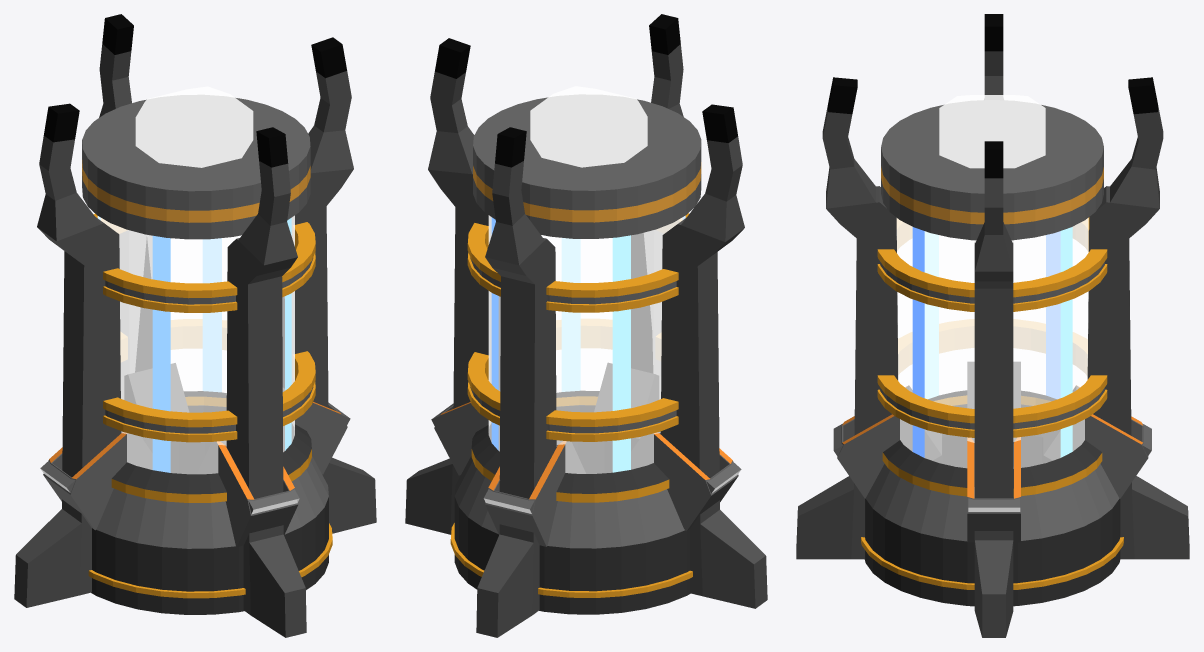
File: Generator.fbx
The picture shows the model from 3 angles, left to right: view 1: azimuth 30°, elevation 25°; view 2: azimuth 150°, elevation 25°; view 3: azimuth 270°, elevation 25°; orthographic projection. The views are drawn at different scales.
Parts seen in each view (by area): view 1: Cylinder, Cube.004, Cube.002, Cylinder.001, Cube.003, Cube.001, Circle.001, Cylinder.002, Cube, Circle, Cube.005, Cube.007 (+2 smaller); view 2: Cylinder, Cube.004, Cube, Cylinder.001, Cube.003, Cube.001, Circle.001, Cylinder.002, Cube.002, Circle, Cube.005, Cube.008 (+2 smaller); view 3: Cylinder, Cylinder.001, Cube, Cube.002, Cube.003, Circle.001, Cylinder.002, Circle, Cube.001, Cube.008, Cube.007, Cube.006 (+2 smaller).
Part boxes in pixels (x1,y1,x2,y2): Cylinder: [82, 95, 332, 614]; Cube.004: [14, 103, 121, 607]; Cube.002: [226, 127, 306, 637]; Cylinder.001: [97, 215, 294, 474]; Cube.003: [282, 37, 376, 533]; Cube.001: [135, 86, 253, 167]; Circle.001: [103, 319, 315, 442]; Cylinder.002: [98, 216, 291, 472]; Cube: [99, 14, 152, 452]; Circle: [93, 213, 315, 312]; Cube.005: [40, 431, 152, 530]; Cube.007: [197, 441, 299, 546]; Cylinder: [450, 95, 701, 614]; Cube.004: [660, 104, 767, 608]; Cube: [476, 127, 556, 637]; Cylinder.001: [488, 215, 685, 473]; Cube.003: [405, 38, 500, 534]; Cube.001: [530, 86, 647, 167]; Circle.001: [467, 319, 678, 441]; Cylinder.002: [491, 216, 685, 472]; Cube.002: [631, 14, 683, 450]; Circle: [467, 213, 688, 312]; Cube.005: [631, 432, 741, 530]; Cube.008: [483, 440, 585, 546]; Cylinder: [861, 100, 1123, 606]; Cylinder.001: [896, 218, 1088, 468]; Cube: [1087, 77, 1189, 559]; Cube.002: [796, 77, 897, 559]; Cube.003: [974, 141, 1013, 637]; Circle.001: [877, 319, 1107, 437]; Cylinder.002: [912, 227, 1072, 457]; Circle: [877, 217, 1107, 311]; Cube.001: [939, 95, 1045, 168]; Cube.008: [1043, 385, 1151, 498]; Cube.007: [833, 385, 941, 498]; Cube.006: [967, 437, 1020, 542].
Bounding box in the file's own units: 204 × 271 × 205.
